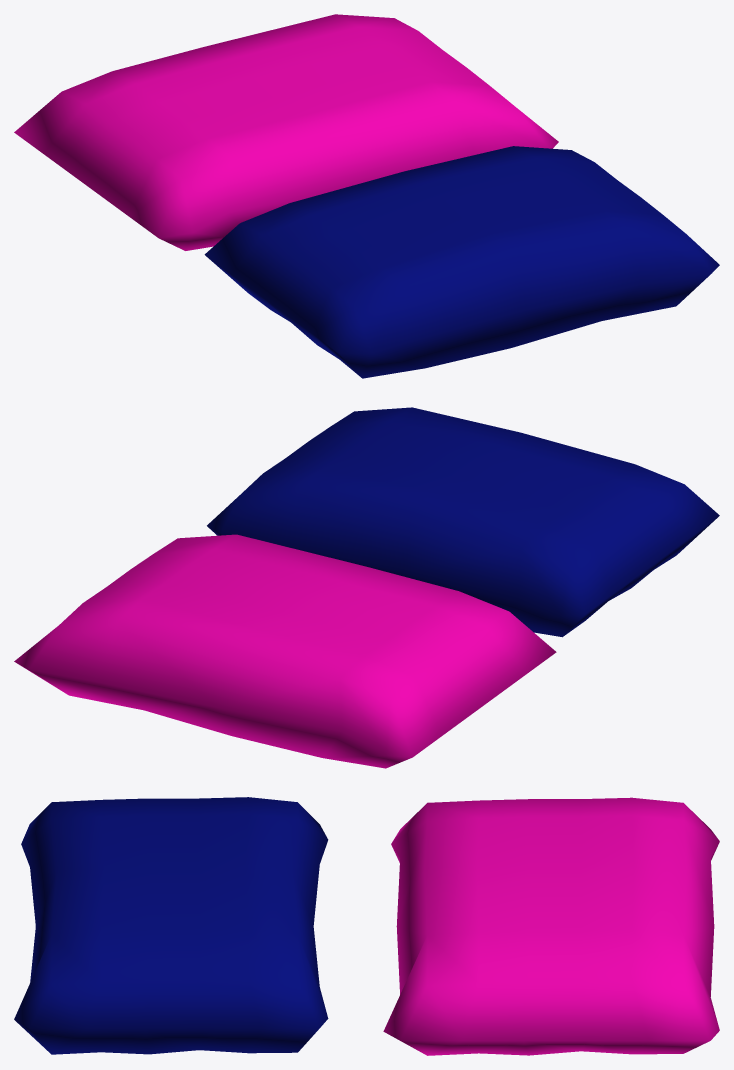
Rendered from SandBags.FBX.
The picture shows the model from 3 angles, top to bottom: view 1: azimuth 30°, elevation 25°; view 2: azimuth 150°, elevation 25°; view 3: azimuth 270°, elevation 25°; orthographic projection. The views are drawn at different scales.
Visible parts, largest first — view 1: SandBag1, SandBag2; view 2: SandBag2, SandBag1; view 3: SandBag2, SandBag1.
Boxes of the visible parts, x1,y1,x2,y2 form: SandBag1: [204, 146, 719, 378]; SandBag2: [14, 14, 558, 250]; SandBag2: [14, 534, 556, 768]; SandBag1: [207, 407, 719, 637]; SandBag2: [383, 797, 719, 1055]; SandBag1: [14, 797, 328, 1054].
Bounding box in the file's own units: 71.89 × 17.34 × 102.
